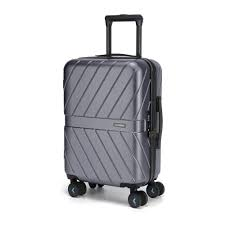suitcase: (58, 12, 166, 209)
